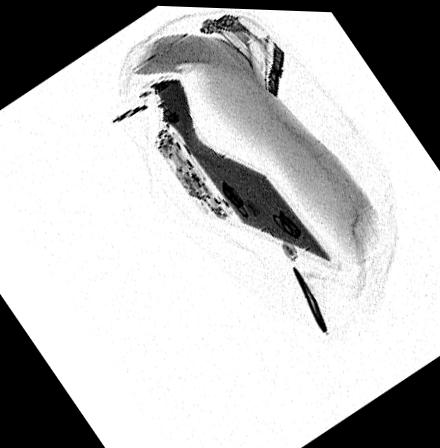Powerbank: (148, 117, 338, 266)
